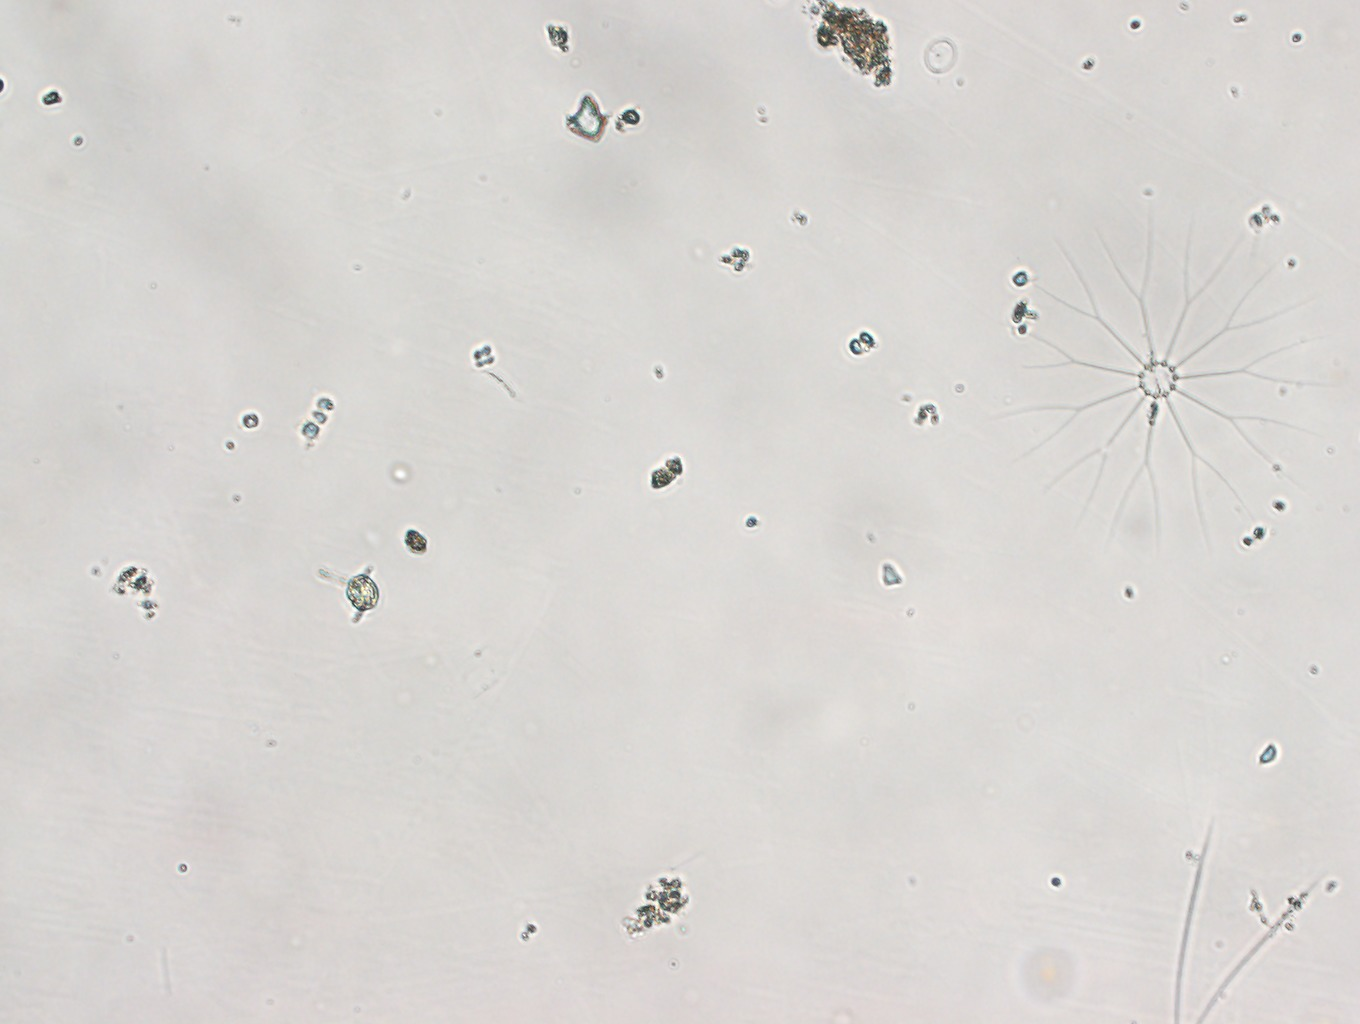bacteriastrum: (988, 207, 1335, 546)
